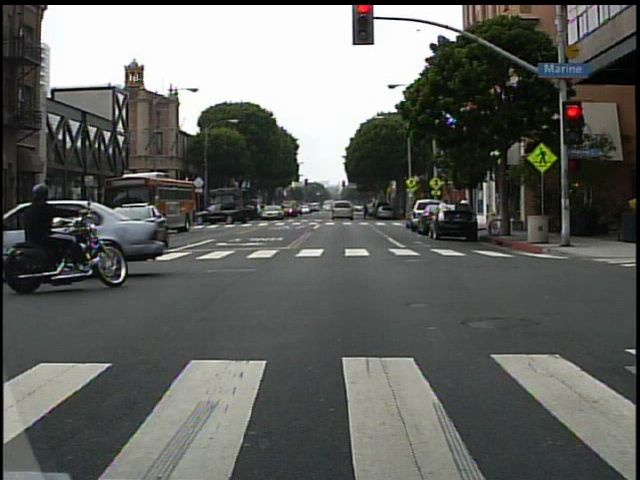person: (16, 170, 95, 286)
